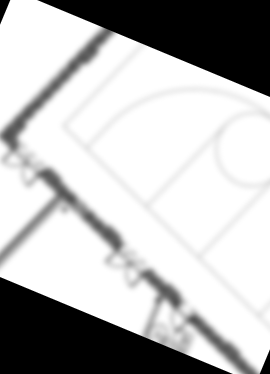door: (162, 303, 194, 336)
double door: (96, 246, 151, 293), (0, 146, 46, 192)
wall: (0, 180, 71, 290)
window: (25, 51, 82, 118)
